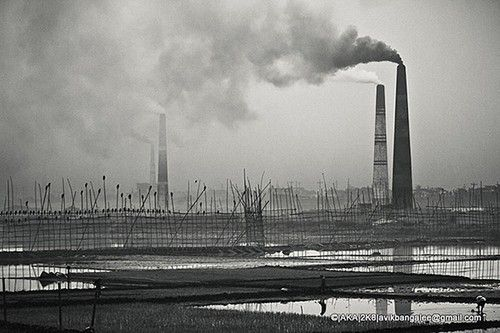dust: (248, 4, 413, 75), (249, 47, 388, 97)
